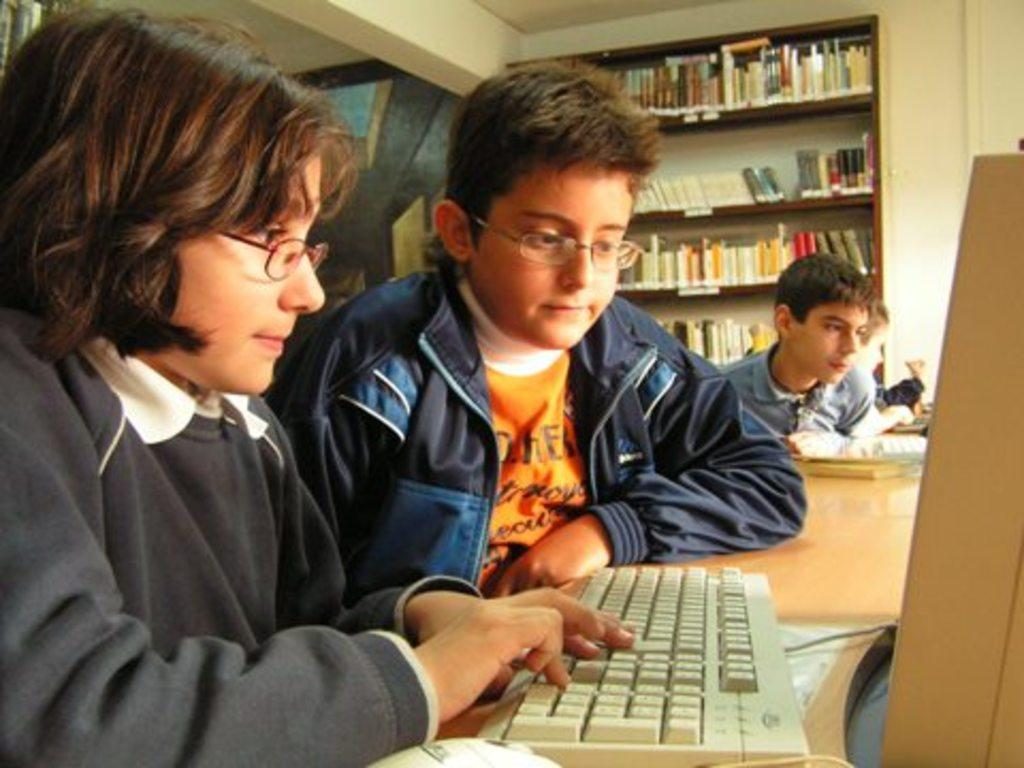Computer-keyboard: (471, 563, 806, 766)
